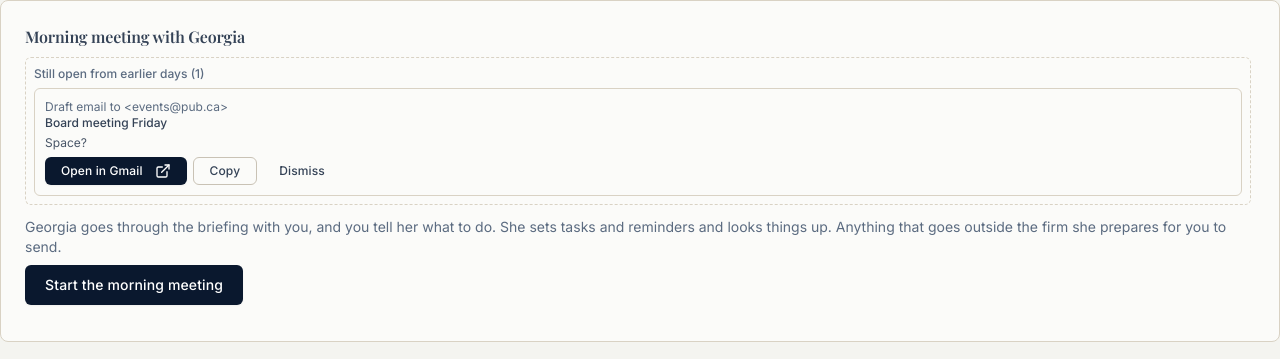
Test: drafts left over from an earlier day › shows them above today's conversation until he uses or dismisses them
Expected: the element with test id "carried" shows "Still open from earlier days (1)", [25,57,1251,205]
Expected: the element with test id "carried" shows "Board meeting Friday", [45,115,167,130]
Click the button "Dismiss": {"x": 302, "y": 171} [263,157,341,185]
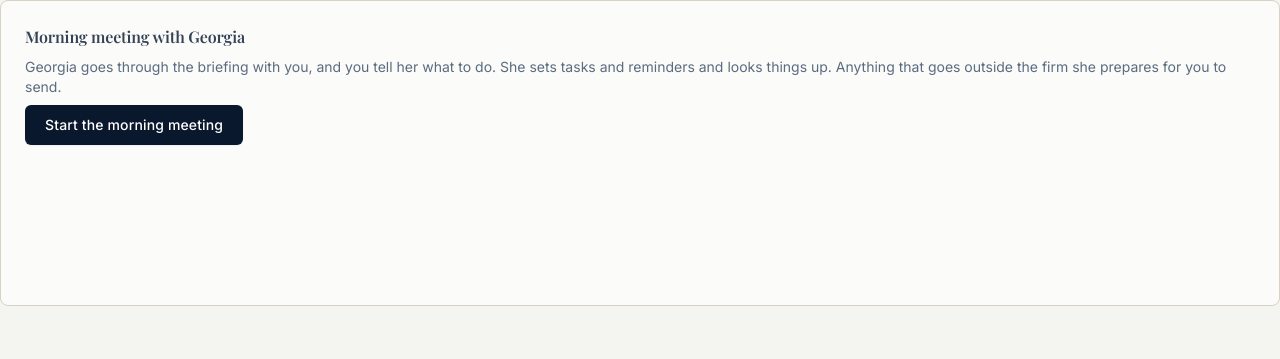
Now the element with test id "carried" is gone
